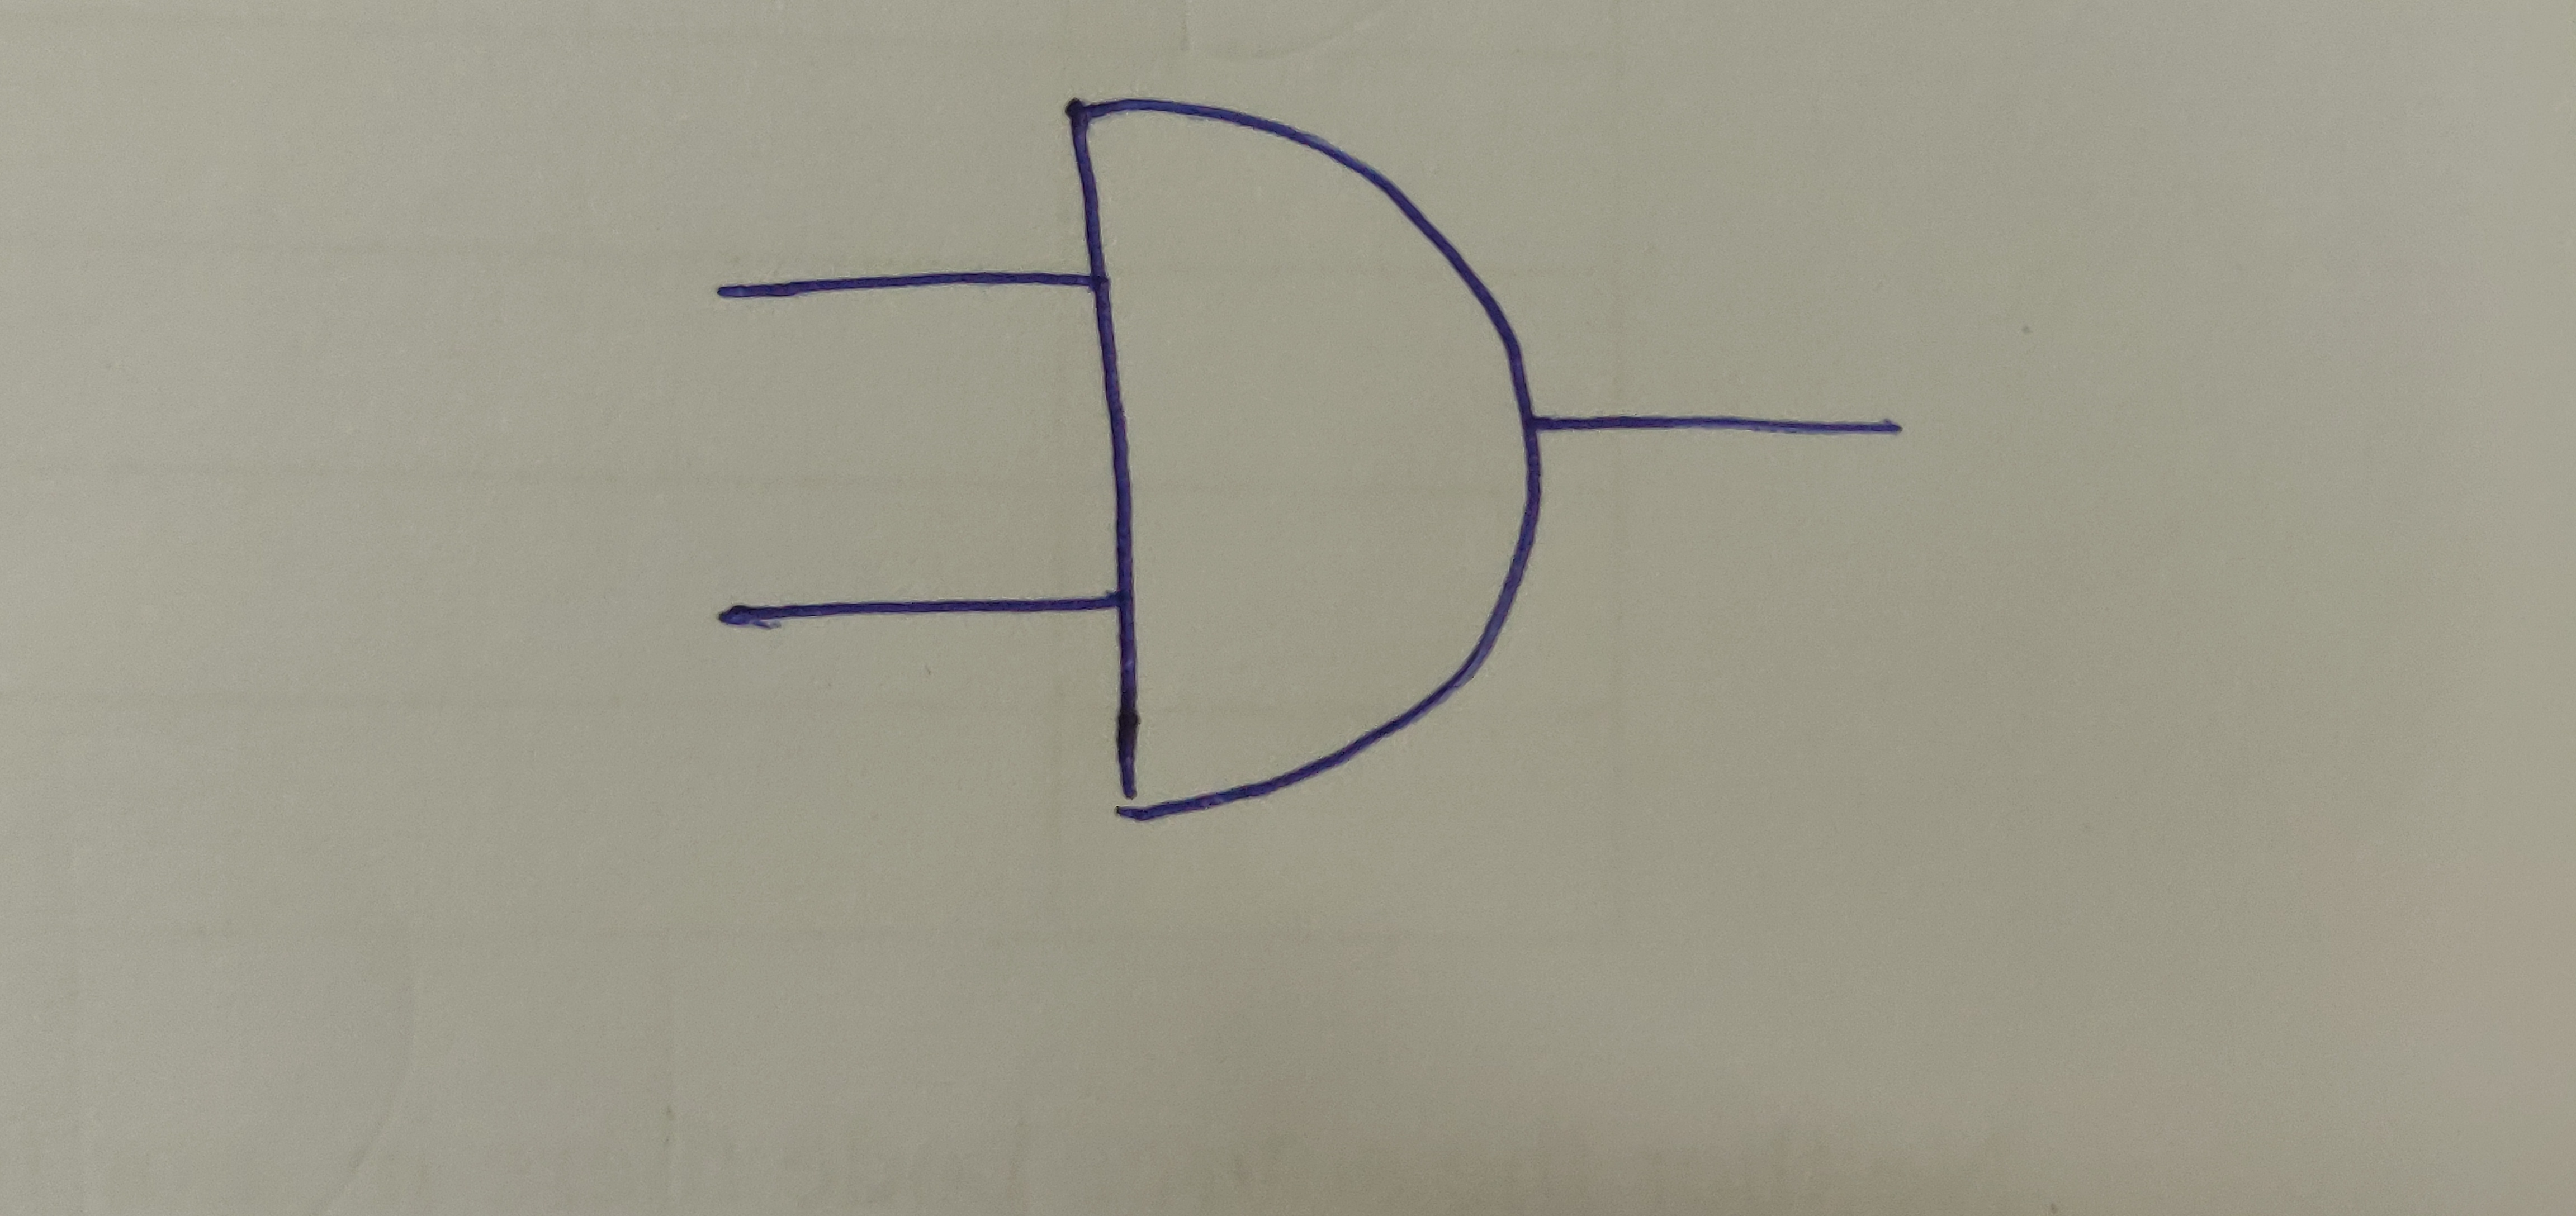and: (1060, 90, 1551, 827)
